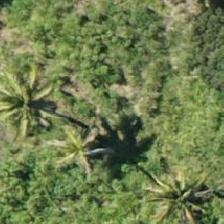coconut_tree: (35, 102, 125, 192), (120, 143, 210, 223), (0, 53, 80, 143)
